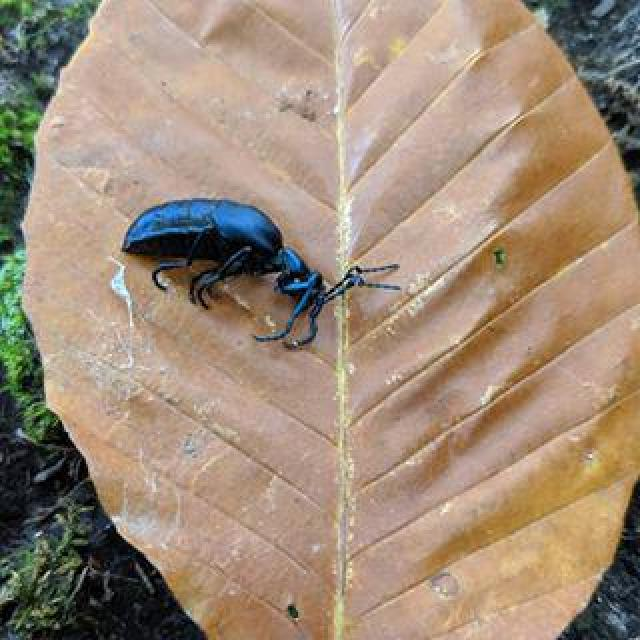BlisterBeetle-Adult-: (120, 184, 421, 368)
